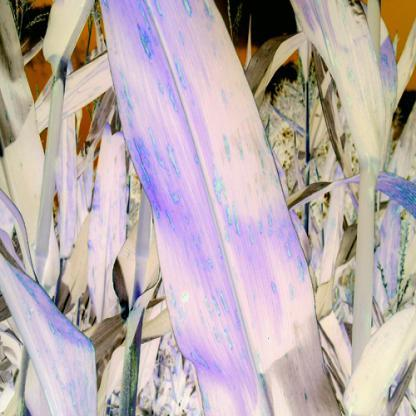Corn leaf blight: (98, 3, 312, 414), (1, 236, 102, 414)
